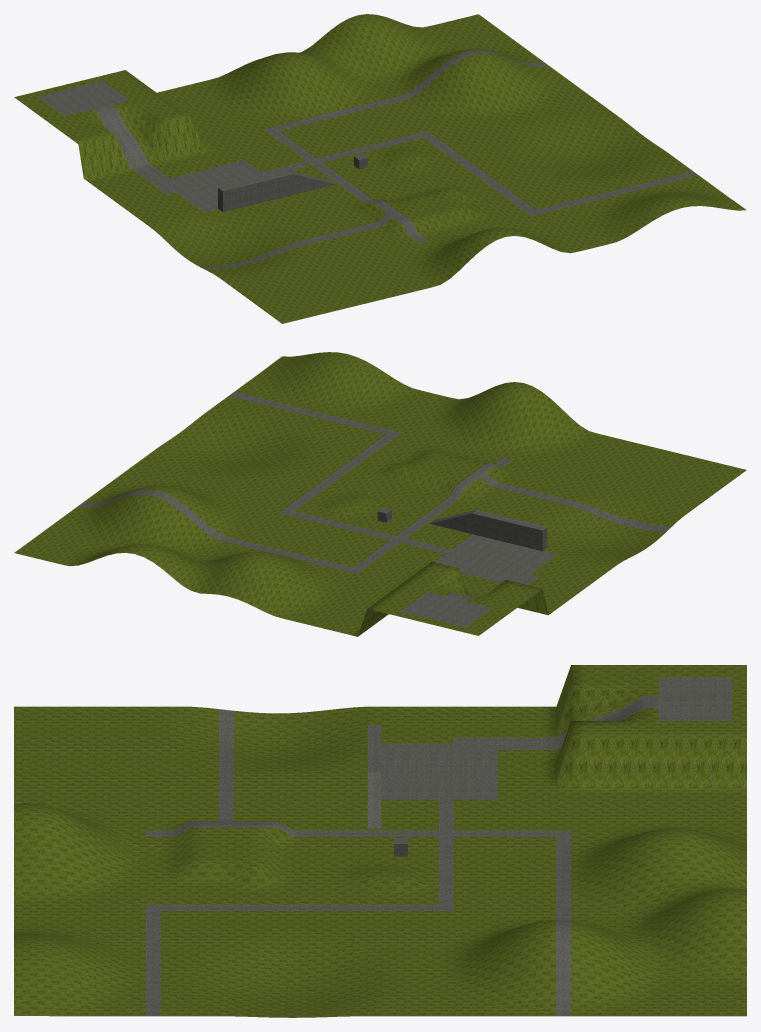
File: StageMap_roughness.gltf
The picture shows the model from 3 angles, top to bottom: view 1: azimuth 30°, elevation 25°; view 2: azimuth 150°, elevation 25°; view 3: azimuth 270°, elevation 25°; orthographic projection. The views are drawn at different scales.
Parts seen in each view (by area): view 1: StageMap, Wall; view 2: StageMap, Wall; view 3: StageMap, Wall.
Part boxes in pixels (<box>): StageMap: <box>14,14,746,323</box>; Wall: <box>218,170,335,211</box>; StageMap: <box>14,352,746,636</box>; Wall: <box>429,510,547,551</box>; StageMap: <box>14,665,746,1017</box>; Wall: <box>367,725,381,828</box>.
Size of the model in its own units: 60 by 5.66 by 60.
2 materials, 2 textured.
